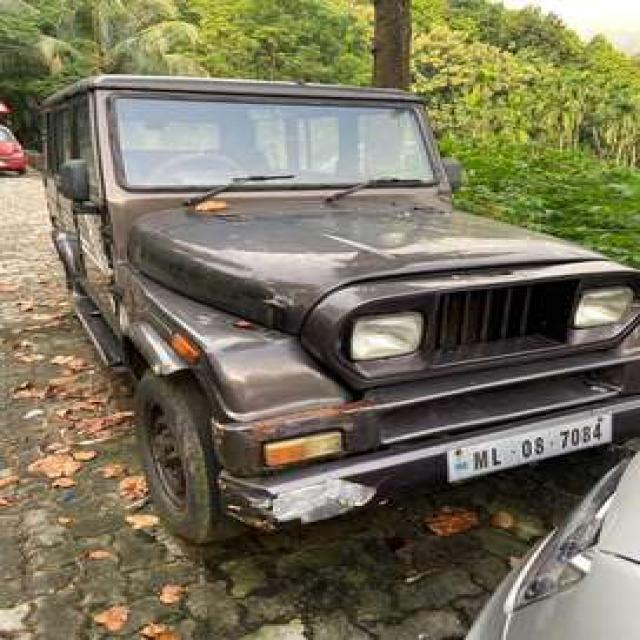Plate: (444, 410, 611, 482)
